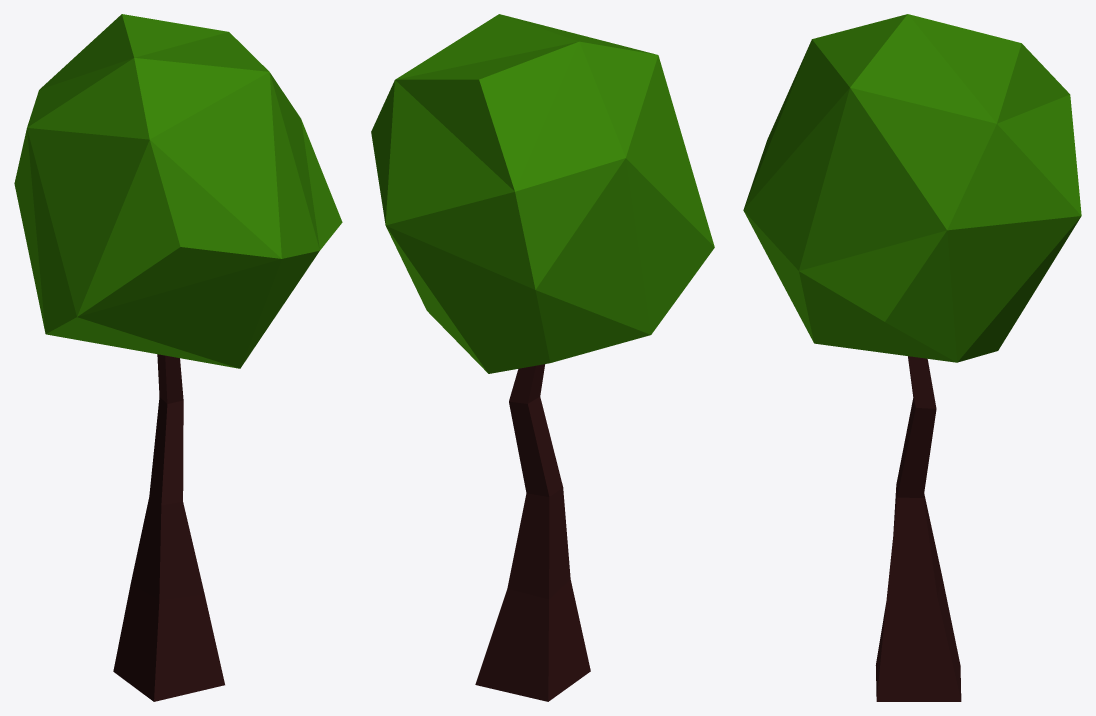
The model's file is treeOne.FBX.
3 views of the same model, side by side, from view 1: azimuth 30°, elevation 25°; view 2: azimuth 150°, elevation 25°; view 3: azimuth 270°, elevation 25° (orthographic). The views are drawn at different scales.
Visible parts, largest first — view 1: Top, Bottom; view 2: Top, Bottom; view 3: Top, Bottom.
Part boxes in pixels (x1=…): Top: x1=14, y1=14, x2=342, y2=368; Bottom: x1=113, y1=354, x2=224, y2=701; Top: x1=371, y1=14, x2=714, y2=373; Bottom: x1=475, y1=364, x2=590, y2=701; Top: x1=743, y1=14, x2=1081, y2=362; Bottom: x1=875, y1=356, x2=961, y2=701.
Size of the model in its own units: 65.87 by 137 by 64.38.
